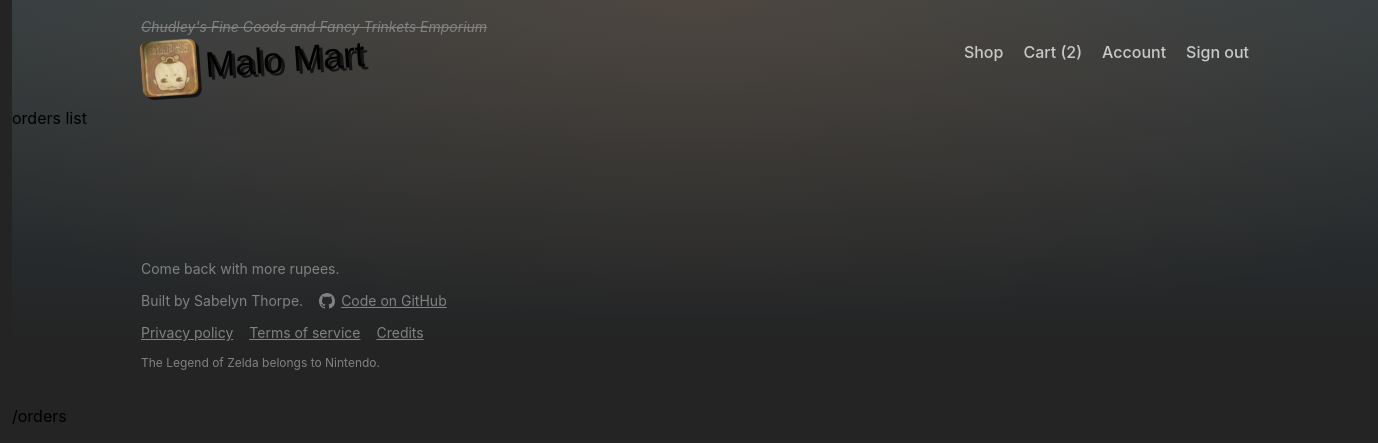
sign out › signs out from a protected page and lands on the home page, not sign in
This screenshot has width=1378, height=443.
Click the button "Sign out" at (1218, 53), box x1=1186 y1=40 x2=1249 y2=65
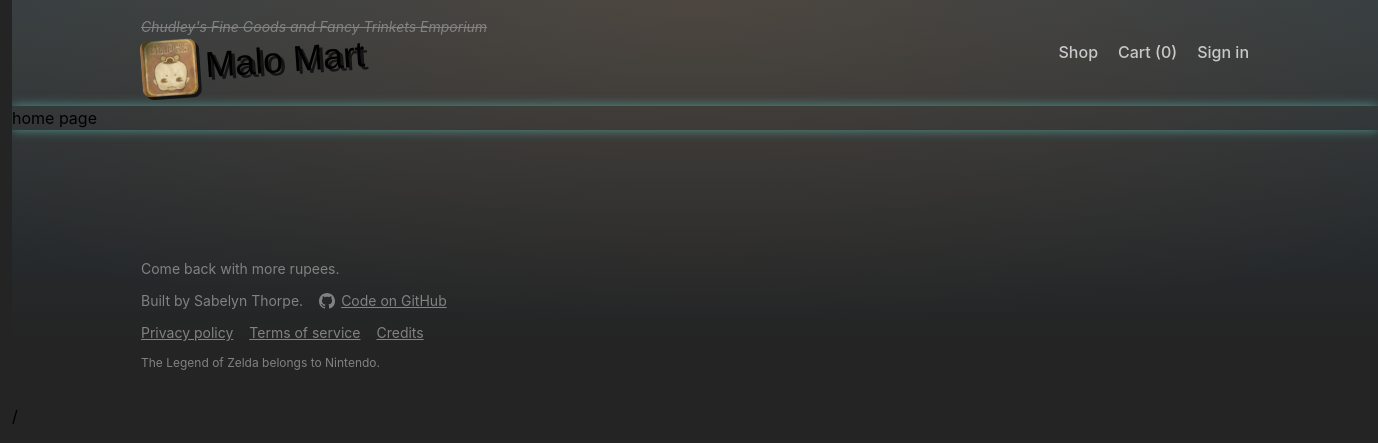
Expected: the text with test id "location" reads "/", x1=12 y1=406 x2=18 y2=426
Expected: the text "home page" is shown, x1=12 y1=108 x2=97 y2=128
Expected: the link "Sign in" is shown, x1=1197 y1=40 x2=1249 y2=65
